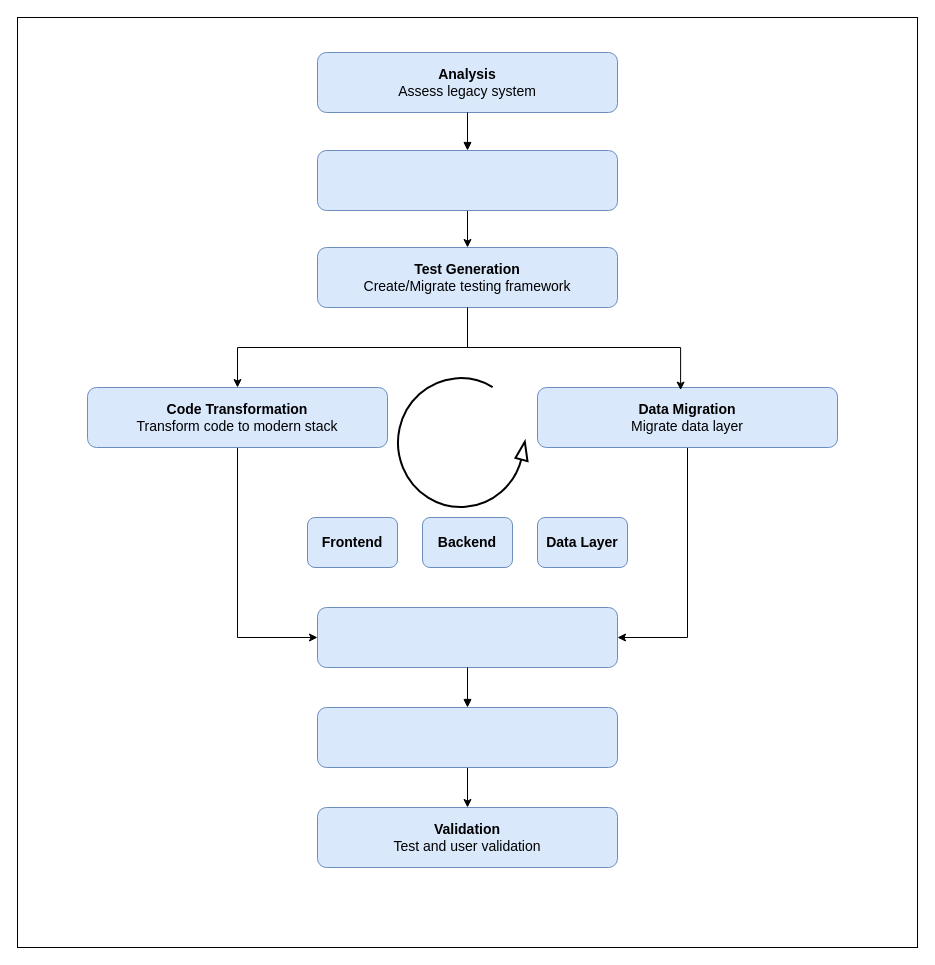
This 935x965 diagram has some shape labels left out. Here are the shapes that lost their labels. From the top down, the box of each, then its label:
(316, 150, 618, 210): Planning Define migration mapping
(396, 376, 528, 508): Build Integrate Test
(316, 606, 618, 668): Infrastructure Containerize and generate configs
(316, 706, 618, 768): Deployment Automate deployment
